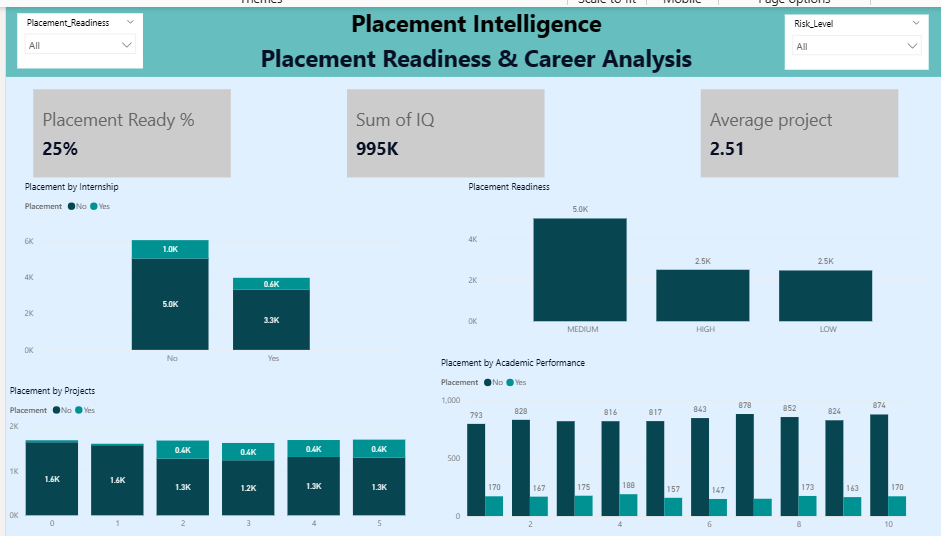

Layout of this report page (visuals, bound fields, positions):
{"tool":"powerbi","page":{"name":"Placement Intelligence","canvas":[1280,720],"ordinal":2},"visuals":[{"type":"textbox","title":"Placement Intelligence","box":[0,0,1280.3,96.1],"z":0},{"type":"cardVisual","fields":{"Data":["Avg(cleaned_student_data.Projects_Completed)"]},"box":[941.3,107,279.9,130.4],"z":1000},{"type":"cardVisual","fields":{"Data":["Sum(cleaned_student_data.IQ)"]},"box":[459.7,107,279.9,130.4],"z":2000},{"type":"cardVisual","fields":{"Data":["cleaned_student_data.Placement Ready %"]},"box":[31.6,107,279.9,130.4],"z":3000},{"type":"clusteredColumnChart","title":"Placement Readiness","fields":{"Category":["cleaned_student_data.Placement_Readiness"],"Y":["CountNonNull(cleaned_student_data.College_ID)"]},"box":[624.4,237.4,634,219.6],"z":4000},{"type":"columnChart","title":"Placement by Internship","fields":{"Category":["cleaned_student_data.Internship_Experience"],"Y":["CountNonNull(cleaned_student_data.College_ID)"],"Series":["cleaned_student_data.Placement"]},"box":[20.6,237.4,528.3,258],"z":5000},{"type":"clusteredColumnChart","title":"Placement by Academic Performance","fields":{"Category":["cleaned_student_data.Academic_Performance"],"Y":["CountNonNull(cleaned_student_data.College_ID)"],"Series":["cleaned_student_data.Placement"]},"box":[587.3,476.2,643.6,244.3],"z":6000},{"type":"columnChart","title":"Placement by Projects","fields":{"Category":["cleaned_student_data.Projects_Completed"],"Y":["CountNonNull(cleaned_student_data.College_ID)"],"Series":["cleaned_student_data.Placement"]},"box":[0,514.6,548.9,205.8],"z":7000},{"type":"slicer","fields":{"Values":["cleaned_student_data.Risk_Level"]},"box":[1060.7,11,196.2,75.5],"z":8000},{"type":"slicer","fields":{"Values":["cleaned_student_data.Placement_Readiness"]},"box":[15.1,8.2,171.5,75.5],"z":9000}]}

Visuals, with their boxes on the page's 1280x720 design canvas (x1, y1, x2, y2). These are canvas units, not pixel positions in the 941x536 screenshot, which may show the page scaled, cropped or inside an application window:
"Placement Intelligence" textbox: <bbox>0, 0, 1280, 96</bbox>
cardVisual - Avg(cleaned_student_data.Projects_Completed): <bbox>941, 107, 1221, 237</bbox>
cardVisual - Sum(cleaned_student_data.IQ): <bbox>460, 107, 740, 237</bbox>
cardVisual - cleaned_student_data.Placement Ready %: <bbox>32, 107, 312, 237</bbox>
"Placement Readiness" clusteredColumnChart: <bbox>624, 237, 1258, 457</bbox>
"Placement by Internship" columnChart: <bbox>21, 237, 549, 495</bbox>
"Placement by Academic Performance" clusteredColumnChart: <bbox>587, 476, 1231, 720</bbox>
"Placement by Projects" columnChart: <bbox>0, 515, 549, 720</bbox>
slicer - cleaned_student_data.Risk_Level: <bbox>1061, 11, 1257, 86</bbox>
slicer - cleaned_student_data.Placement_Readiness: <bbox>15, 8, 187, 84</bbox>
